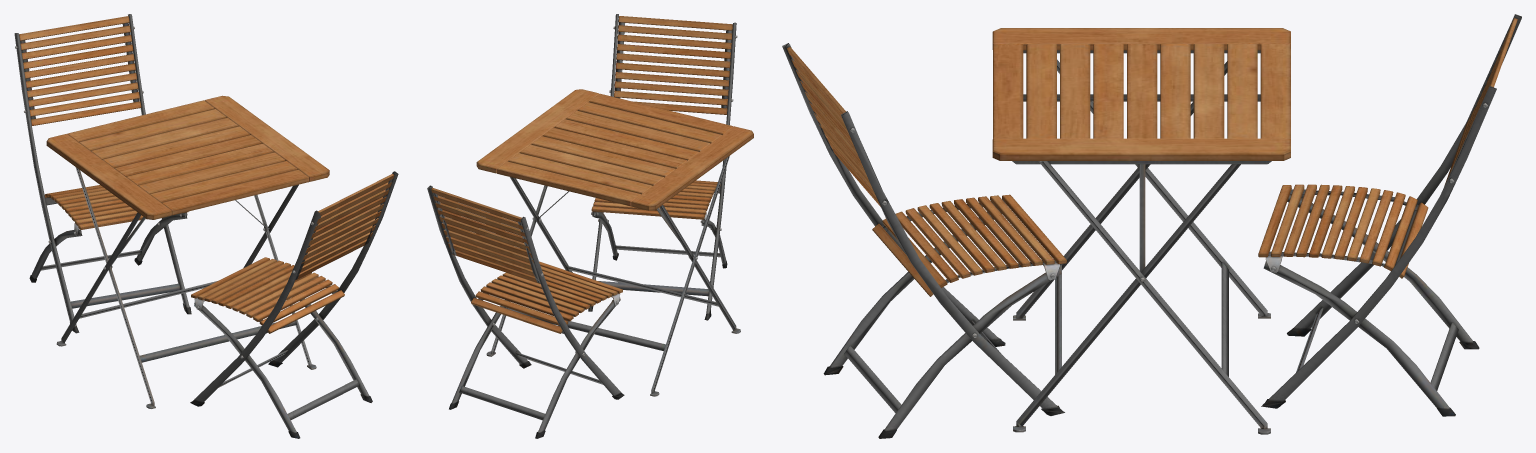
Rendered from lg-p-bistro.glb.
3 views of the same model, side by side, from view 1: azimuth 30°, elevation 25°; view 2: azimuth 150°, elevation 25°; view 3: azimuth 270°, elevation 25° (orthographic). The views are drawn at different scales.
Parts seen in each view (by area): view 1: outdoor_table_chair_set_01_table, outdoor_table_chair_set_01_chair_02, outdoor_table_chair_set_01_chair_01; view 2: outdoor_table_chair_set_01_table, outdoor_table_chair_set_01_chair_02, outdoor_table_chair_set_01_chair_01; view 3: outdoor_table_chair_set_01_table, outdoor_table_chair_set_01_chair_01, outdoor_table_chair_set_01_chair_02.
Part boxes in pixels (x1=…): outdoor_table_chair_set_01_table: x1=46, y1=95, x2=329, y2=408; outdoor_table_chair_set_01_chair_02: x1=14, y1=14, x2=191, y2=333; outdoor_table_chair_set_01_chair_01: x1=190, y1=171, x2=398, y2=438; outdoor_table_chair_set_01_table: x1=476, y1=89, x2=753, y2=396; outdoor_table_chair_set_01_chair_02: x1=427, y1=185, x2=624, y2=438; outdoor_table_chair_set_01_chair_01: x1=588, y1=14, x2=737, y2=320; outdoor_table_chair_set_01_table: x1=992, y1=28, x2=1290, y2=434; outdoor_table_chair_set_01_chair_01: x1=782, y1=43, x2=1066, y2=438; outdoor_table_chair_set_01_chair_02: x1=1258, y1=14, x2=1521, y2=416.
Bounding box in the file's own units: 0.7417 × 0.8575 × 1.72.
2 materials, 2 textured.
